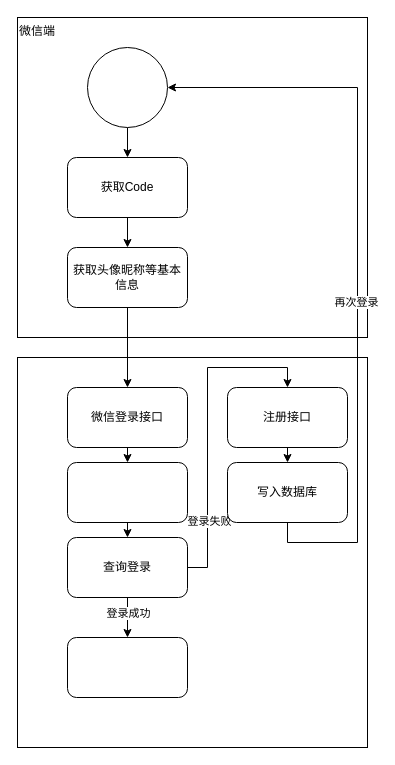
This 395x765 diagram has some shape labels left out. Here are the shapes that lost their labels. From the top down, the box of each, then its label:
(86, 46, 168, 128): 微信登录
(66, 462, 188, 522): 调用腾讯接口 拿到OpenID和SessKey
(16, 356, 368, 748): 服务端
(66, 636, 188, 698): 派发Token
